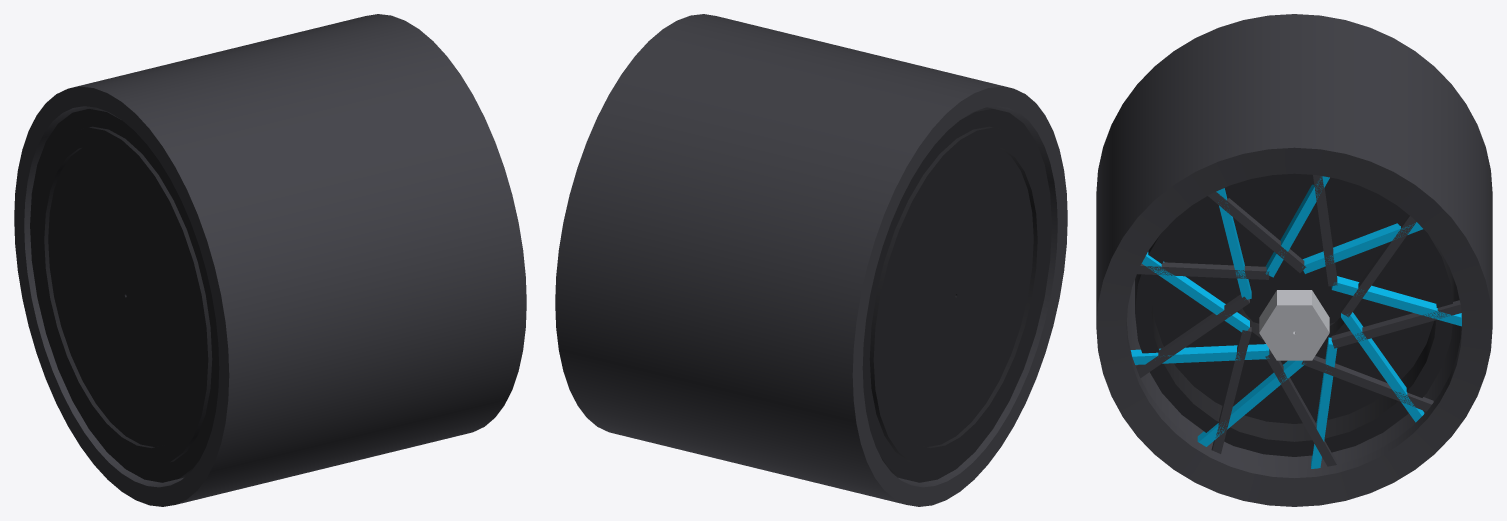
The model's file is mesh_rear.glb.
3 renders of one model, left to right at view 1: azimuth 30°, elevation 25°; view 2: azimuth 150°, elevation 25°; view 3: azimuth 270°, elevation 25°, orthographic. The views are drawn at different scales.
Parts seen in each view (by area): view 1: Rim_mesh_rear; view 2: Rim_mesh_rear; view 3: Rim_mesh_rear.
Part boxes in pixels (x1,y1,x2,y2): Rim_mesh_rear: (14,14,526,506); Rim_mesh_rear: (555,14,1067,506); Rim_mesh_rear: (1096,14,1492,506).
Bounding box in the file's own units: 0.393 × 0.472 × 0.472.
